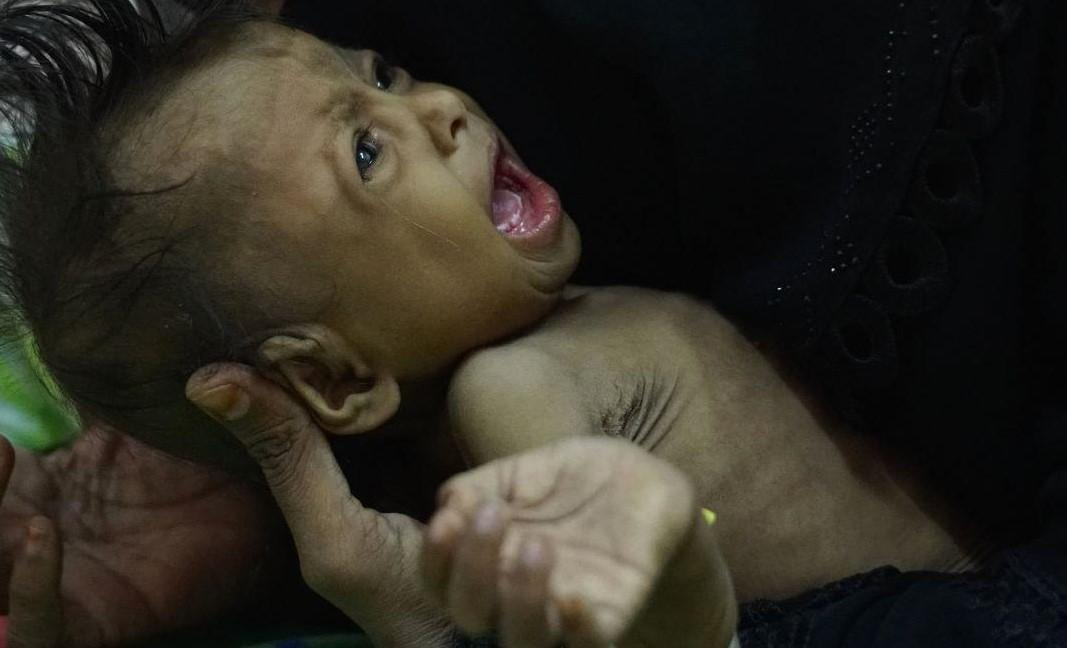Stunting: (35, 10, 608, 463)
